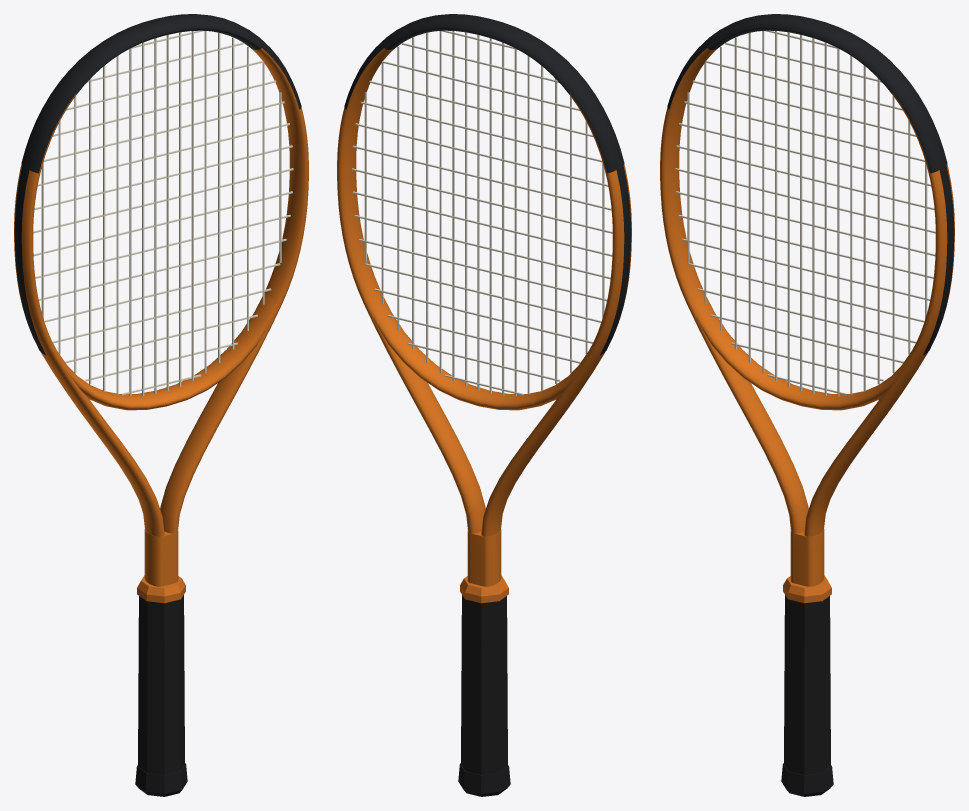
The model's file is wilson-burn-100s-v6-2026.glb.
3 renders of one model, left to right at view 1: azimuth 30°, elevation 25°; view 2: azimuth 150°, elevation 25°; view 3: azimuth 330°, elevation 25°, orthographic.
Parts seen in each view (by area): view 1: frame, strings_mains, strings_crosses, grip, bumper, grommets, butt_cap, collar; view 2: frame, strings_mains, strings_crosses, grip, bumper, grommets, butt_cap, collar; view 3: frame, strings_mains, strings_crosses, grip, bumper, grommets, butt_cap, collar.
Boxes of the visible parts, x1,y1,x2,y2 form: frame: (14,28,308,586); strings_mains: (41,31,281,396); strings_crosses: (33,30,293,395); grip: (138,595,184,774); bumper: (21,14,301,173); grommets: (14,165,45,355); butt_cap: (135,763,187,796); collar: (137,575,185,603); frame: (337,28,631,586); strings_mains: (364,31,604,395); strings_crosses: (352,30,612,395); grip: (461,595,507,774); bumper: (344,14,624,173); grommets: (600,165,631,355); butt_cap: (458,763,510,796); collar: (460,575,508,603); frame: (660,28,954,586); strings_mains: (687,31,927,396); strings_crosses: (675,30,935,395); grip: (784,595,830,774); bumper: (667,14,947,173); grommets: (923,165,954,355); butt_cap: (781,763,833,796); collar: (783,575,831,603).
Size of the model in its own units: 0.2696 by 0.6861 by 0.0396.
